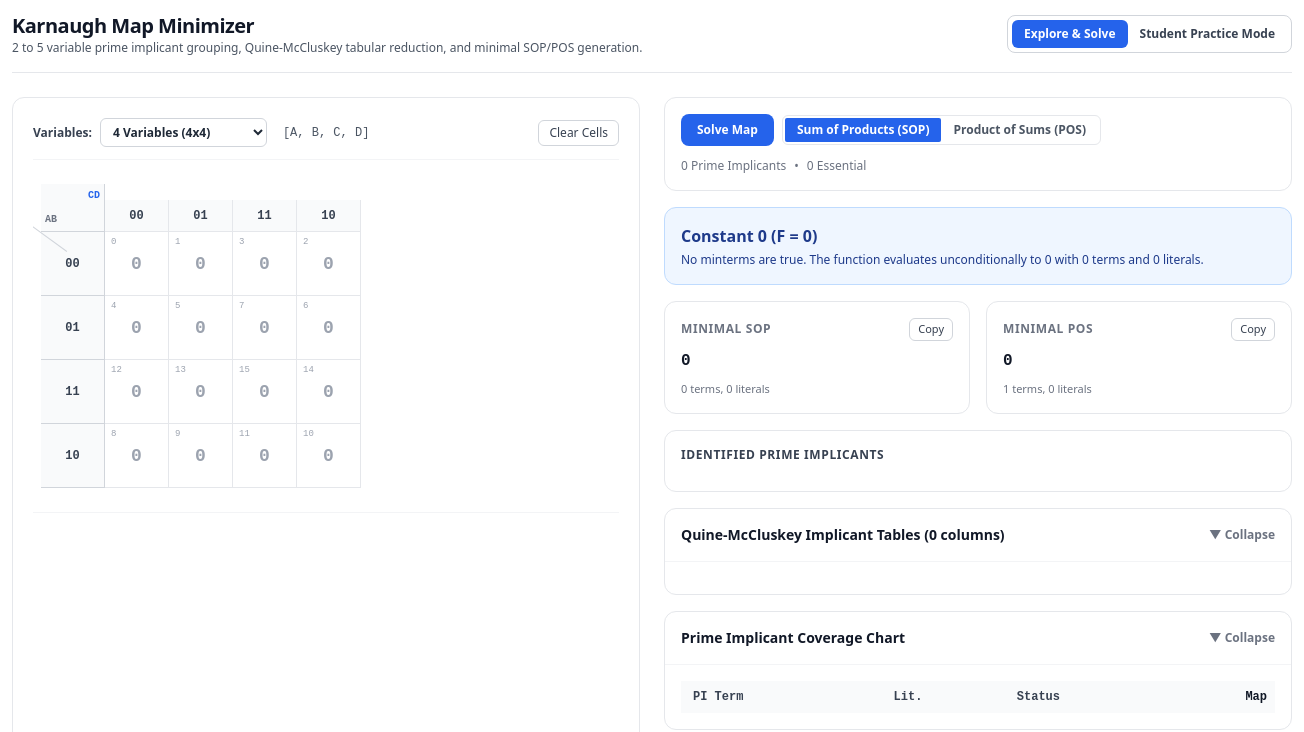
Test: KMapPage › passes accessibility checks for roles, labels, and non-color-only indications
Expected: the table named "4-variable Karnaugh Map" is shown, 41,184 -> 611,488
Expected: the button "Explore & Solve" is shown, 1012,20 -> 1128,48
// Mode switch works
Click the button "Student Practice Mode".
click(1207, 34)  # box 1128,20 -> 1287,48
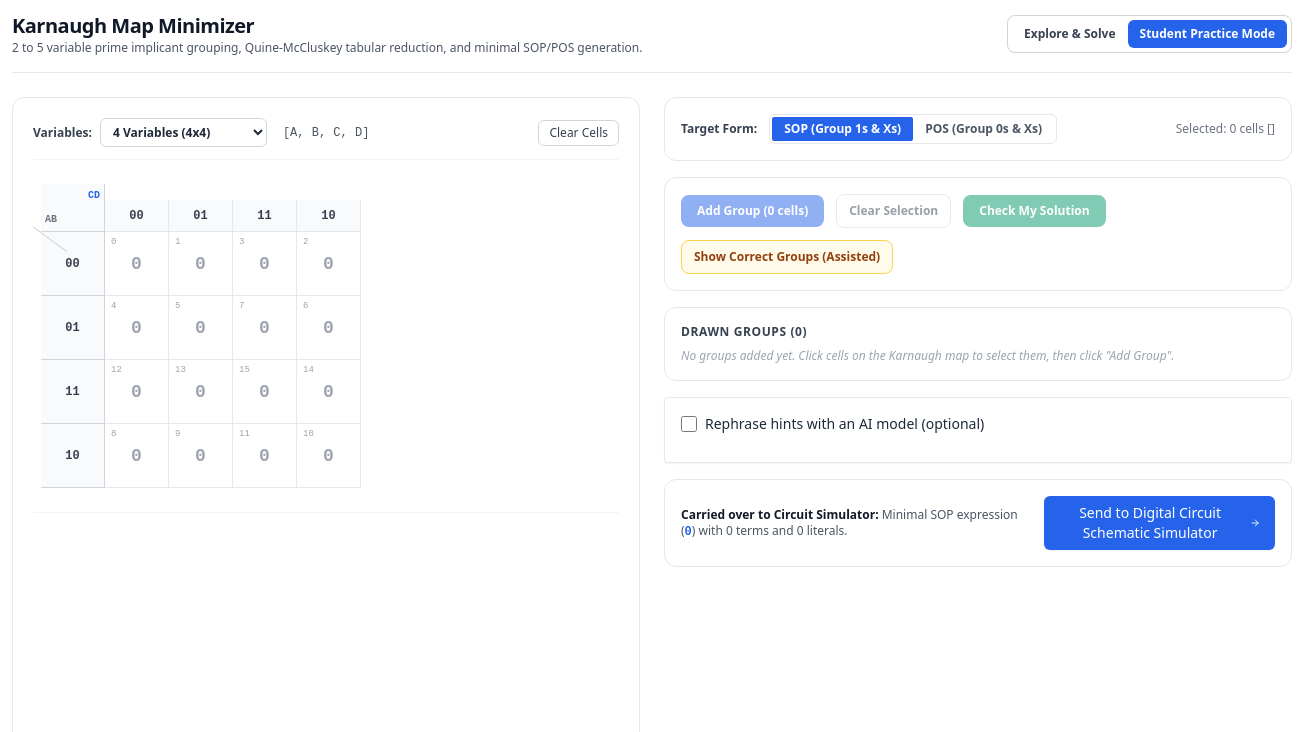
Expected: the heading "Drawn Groups (0)" is shown, 681,324 -> 807,340
